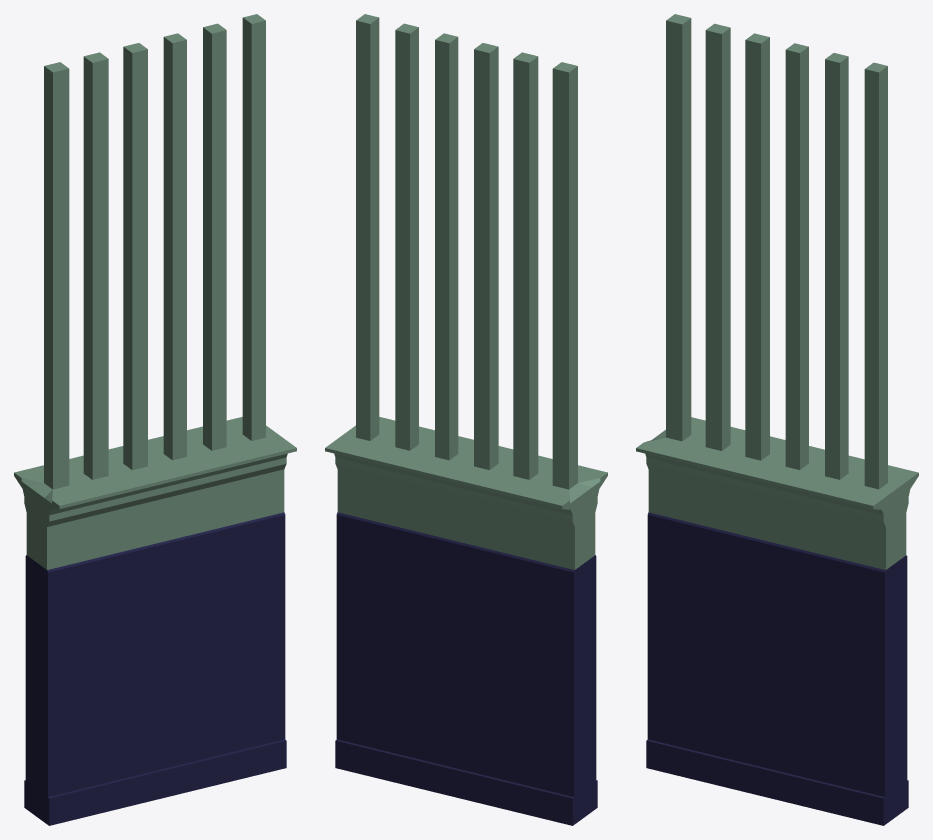
File: Fence_1m.fbx
3 views of the same model, side by side, from view 1: azimuth 30°, elevation 25°; view 2: azimuth 150°, elevation 25°; view 3: azimuth 330°, elevation 25° (orthographic).
Parts seen in each view (by area): view 1: Cube; view 2: Cube; view 3: Cube.
Part boxes in pixels (x1,y1,x2,y2): Cube: [14, 14, 296, 825]; Cube: [325, 14, 607, 825]; Cube: [636, 14, 918, 825].
Size of the model in its own units: 100 by 300 by 33.28.
